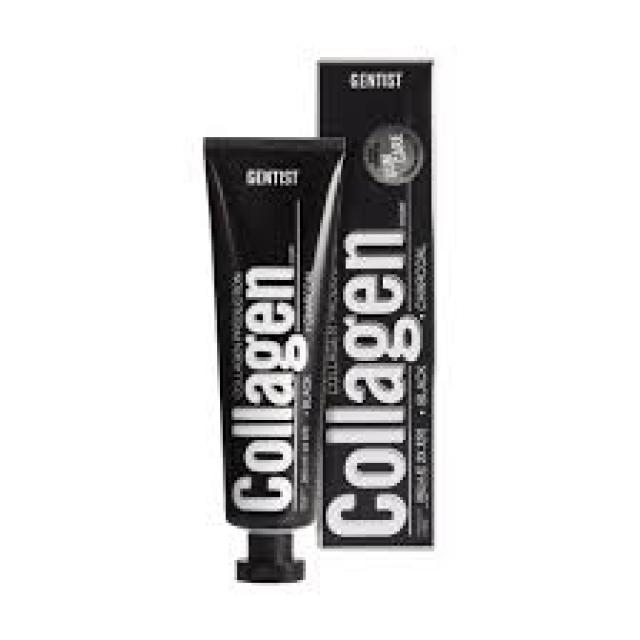toothpaste: (192, 127, 330, 588)
